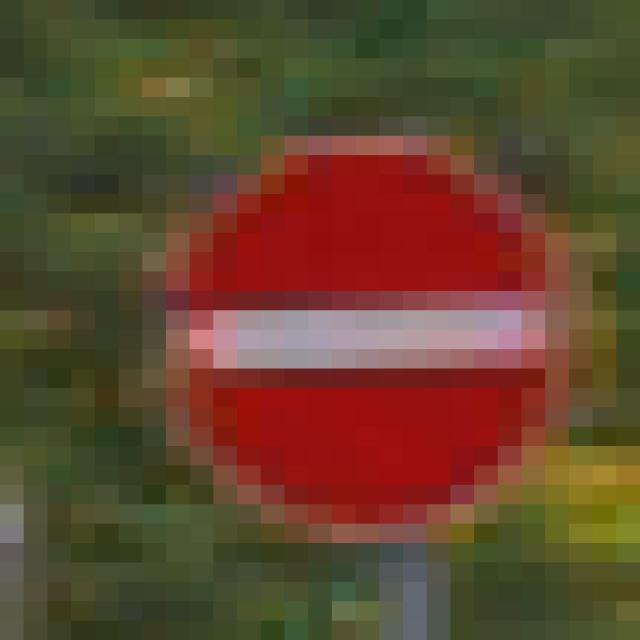No Entry: (143, 117, 523, 544)
